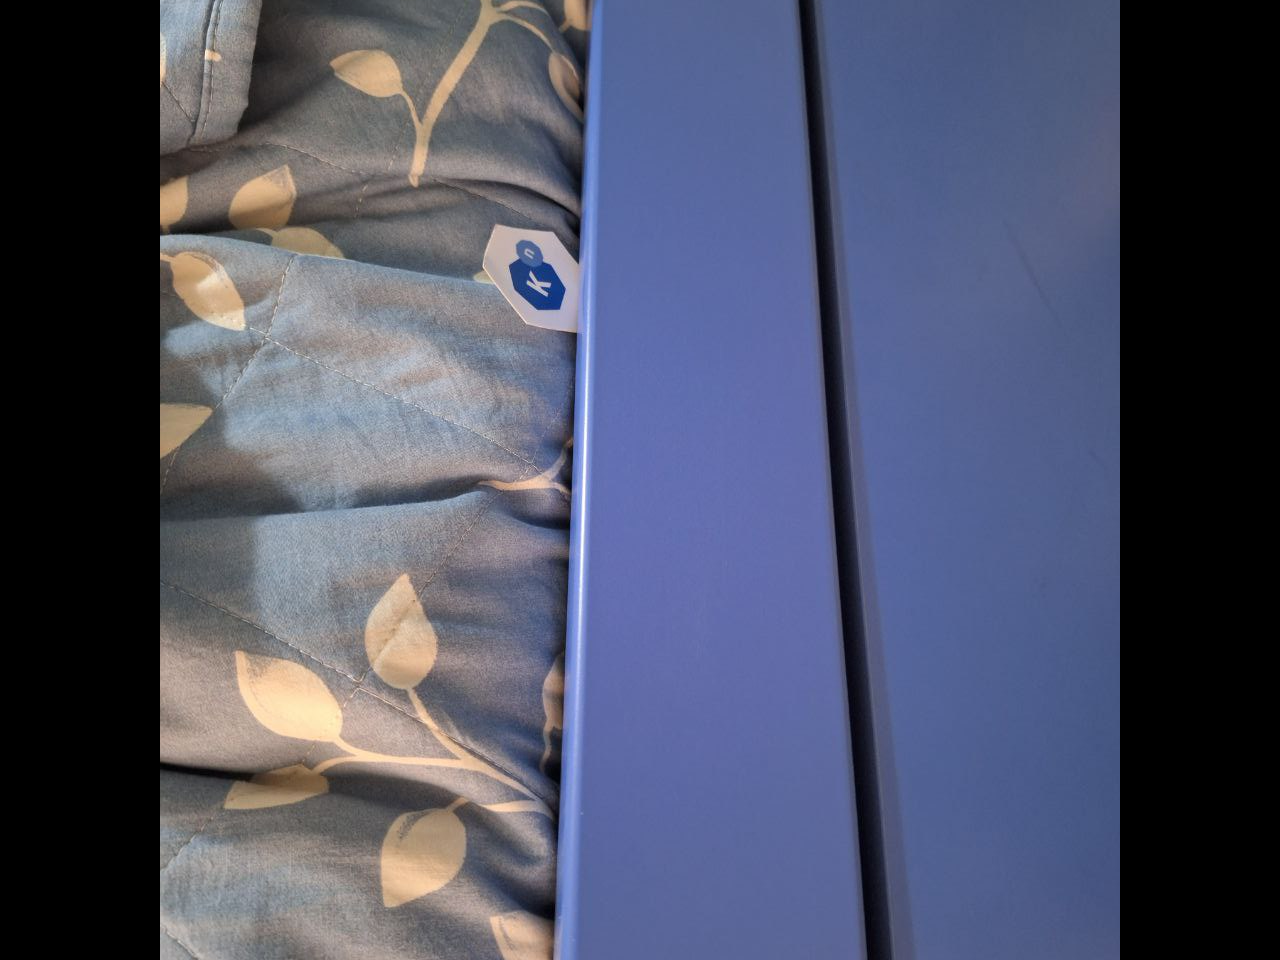knative: (502, 238, 566, 310)
